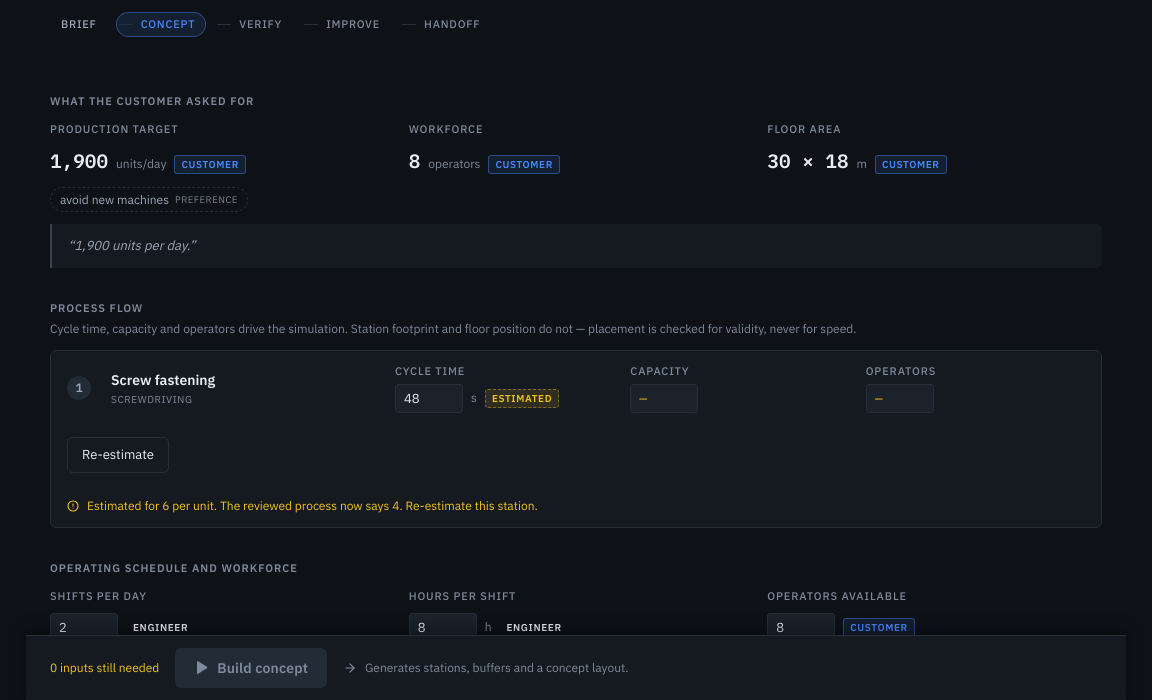
Scenario: a route change reaches the station that depended on it › reopens on the new count, never the cached one
This screenshot has width=1152, height=700.
Click the button with test id "estimate-open-m-screwdriving". click: (118, 455)
box: [67,437,169,473]
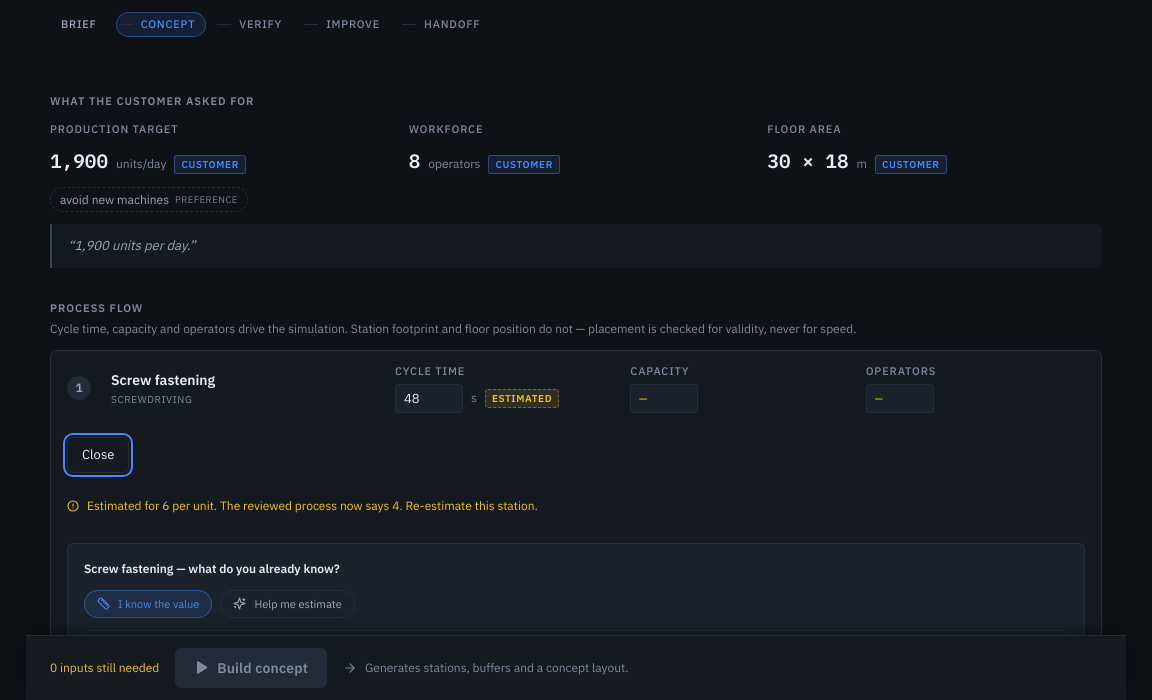
Click the tab with test id "estimate-mode-assist". click: (288, 604)
box: [220,590,355,618]
(page scrolled)
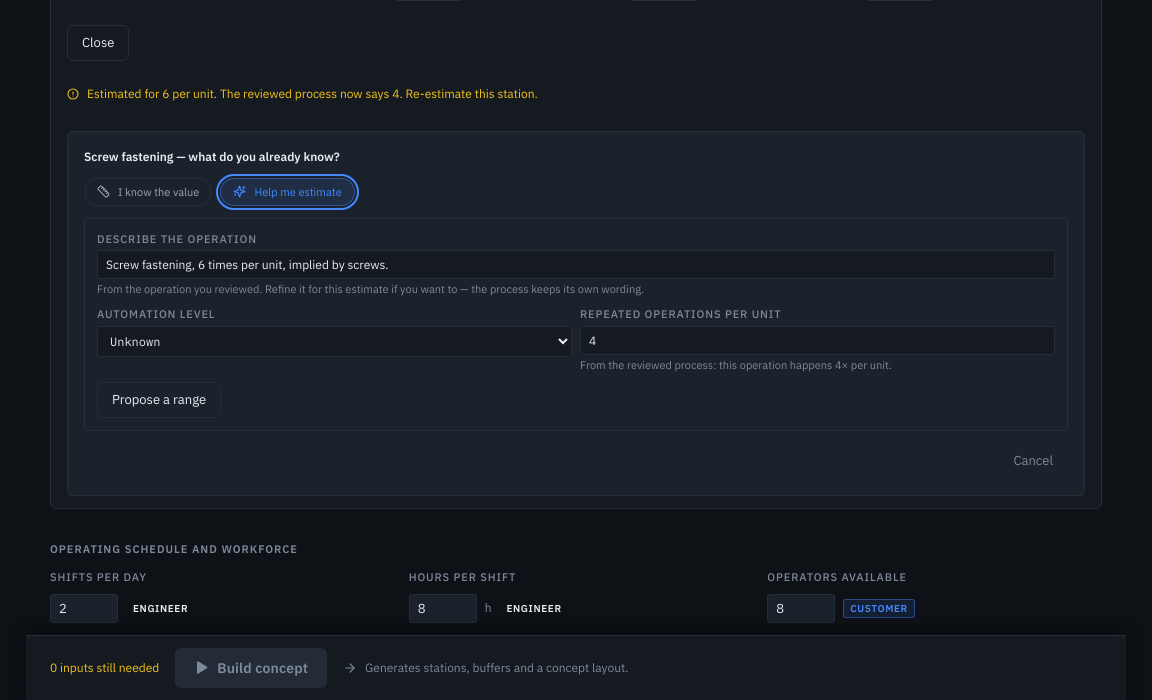
Expected: the number field with test id "estimate-operations" holds "4", [580,326,1055,355]
